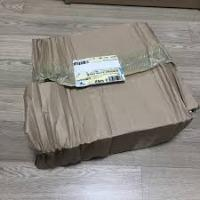damaged package: (26, 56, 175, 95)
undamaged: (17, 20, 198, 173)
